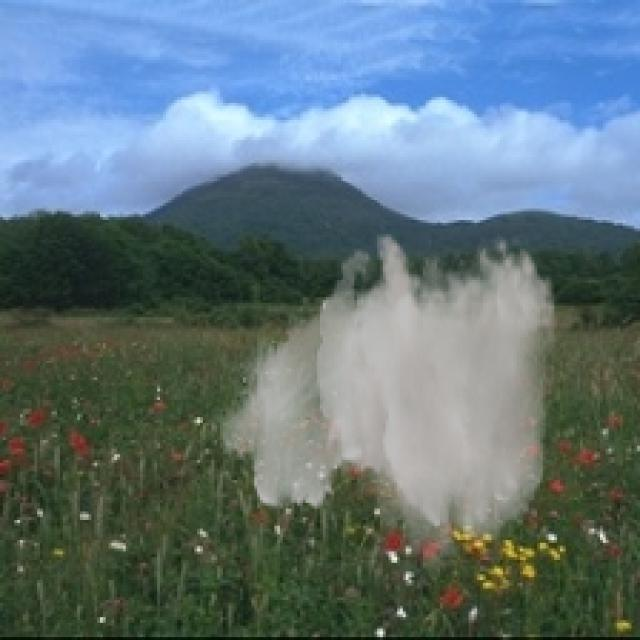Smoke: (208, 231, 558, 586)
